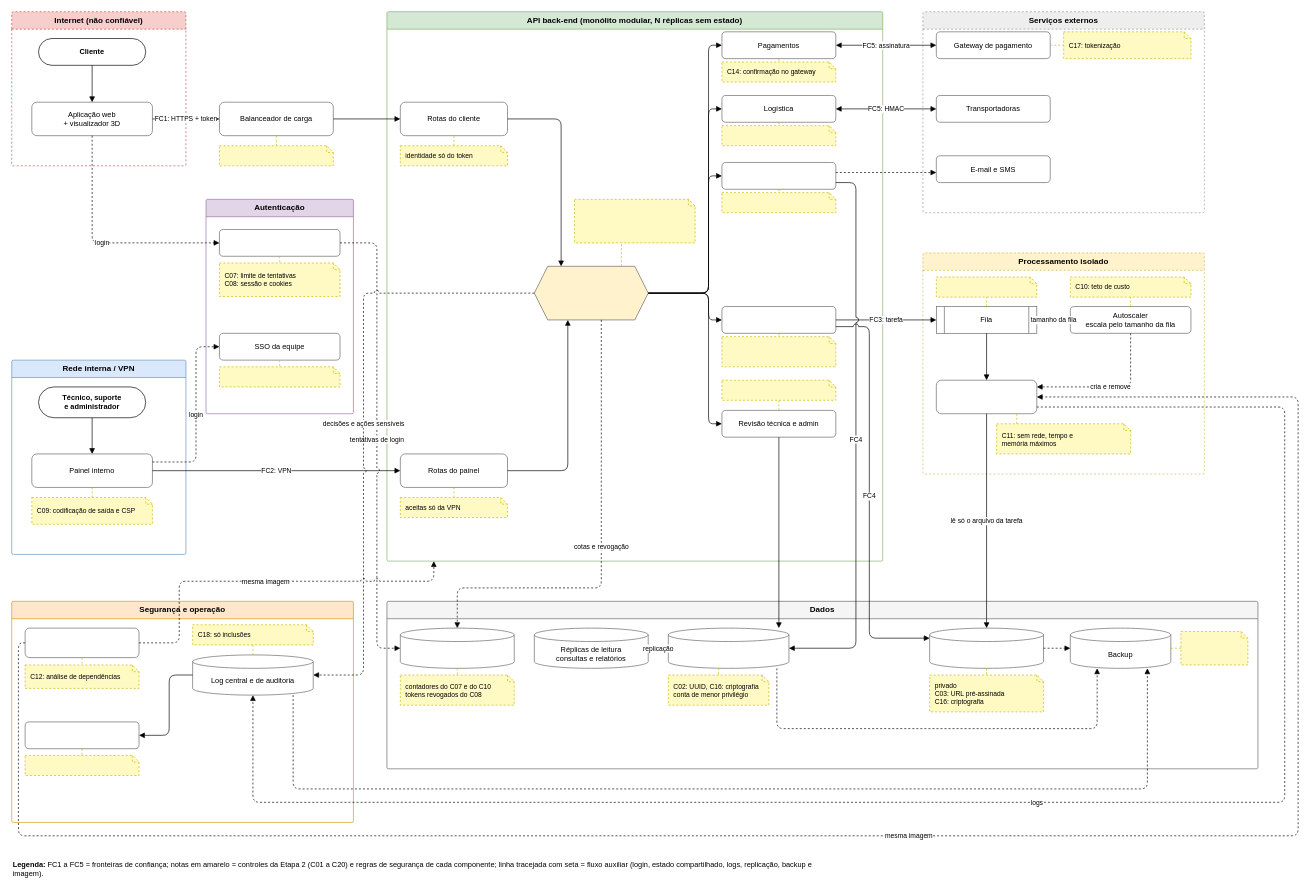
The diagram is 1315 pixels wide and 894 high, and some of its shapes have lost their labels. The shapes that lost their labels are listed below. From the top down, each one's centre as x and y in pixels, then its label:
At point 276,155: "TLS e limite de requisições".
At point 778,135: "C15: retorno com HMAC".
At point 778,175: "Pedidos e orçamento".
At point 634,221: "C01: dono do objeto C04: perfil por rota nega por padrão".
At point 778,202: "C13: recálculo no servidor".
At point 279,242: "IdP dos clientes".
At point 591,293: "Autorização central".
At point 986,286: "C10: cota por conta".
At point 778,319: "Arquivos".
At point 778,351: "C10: limites de upload C03: URL pré-assinada".
At point 279,376: "C05: MFA obrigatório".
At point 778,390: "só pelas rotas do painel".
At point 986,397: "Workers descartáveis (N)".
At point 81,642: "Imagem endurecida".
At point 457,647: "Estado compartilhado".
At point 728,647: "Banco principal pool de conexões".
At point 986,647: "Armazenamento de objetos".
At point 1214,648: "C20: cópia diária e restauração testada".
At point 81,735: "Monitoramento".
At point 81,765: "C19: alertas e resposta".
